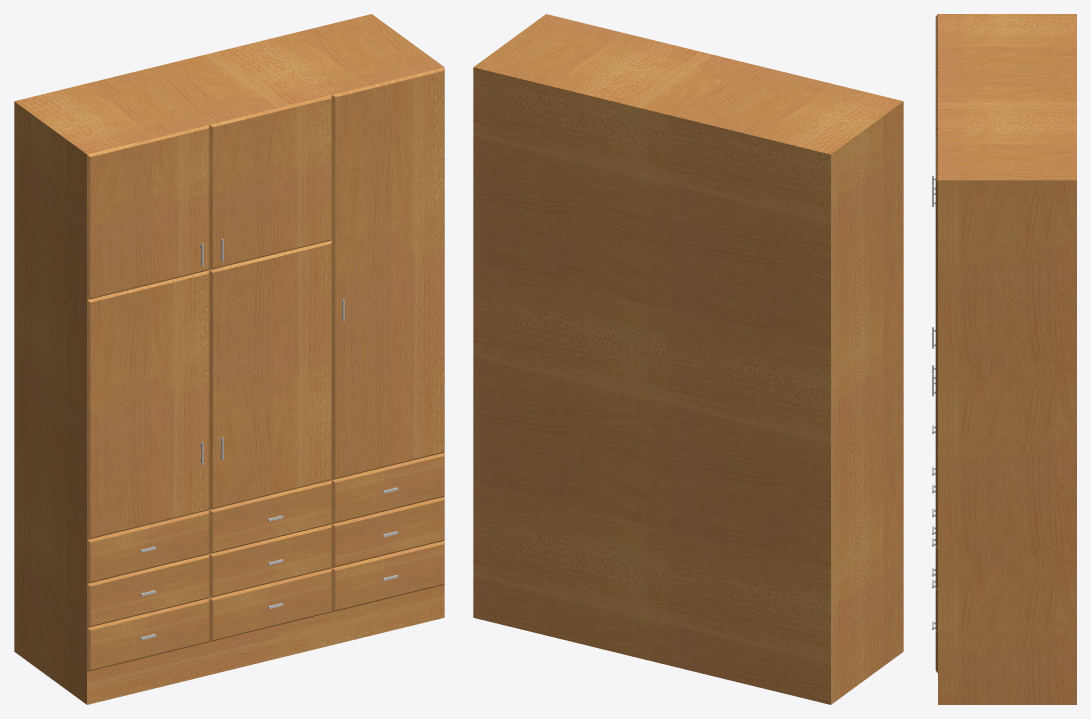
File: Closet01.fbx
3 renders of one model, left to right at view 1: azimuth 30°, elevation 25°; view 2: azimuth 150°, elevation 25°; view 3: azimuth 270°, elevation 25°, orthographic. The views are drawn at different scales.
Visible parts, largest first — view 1: pCube5, polySurface500, polySurface491, polySurface495, polySurface490, polySurface496, polySurface502, polySurface504, polySurface503, polySurface487, polySurface501, polySurface505 (+3 smaller); view 2: pCube5; view 3: pCube5, polySurface500.
Boxes of the visible parts, left/top/right/bottom form: pCube5: left=14, top=14, right=444, bottom=704; polySurface500: left=332, top=67, right=444, bottom=479; polySurface491: left=87, top=270, right=209, bottom=539; polySurface495: left=209, top=240, right=331, bottom=509; polySurface490: left=87, top=124, right=209, bottom=299; polySurface496: left=209, top=95, right=331, bottom=269; polySurface502: left=87, top=598, right=209, bottom=671; polySurface504: left=209, top=524, right=331, bottom=597; polySurface503: left=209, top=480, right=331, bottom=553; polySurface487: left=87, top=510, right=209, bottom=583; polySurface501: left=87, top=554, right=209, bottom=627; polySurface505: left=209, top=568, right=331, bottom=641; pCube5: left=473, top=14, right=903, bottom=704; pCube5: left=938, top=14, right=1076, bottom=704; polySurface500: left=935, top=128, right=937, bottom=546.
Size of the model in its own units: 1.7 by 2.5 by 0.6252.
